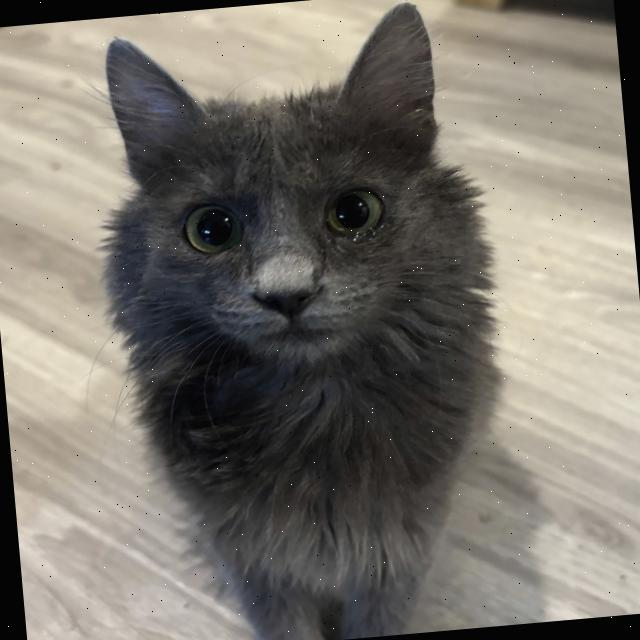persian_cat: (75, 0, 507, 400)
